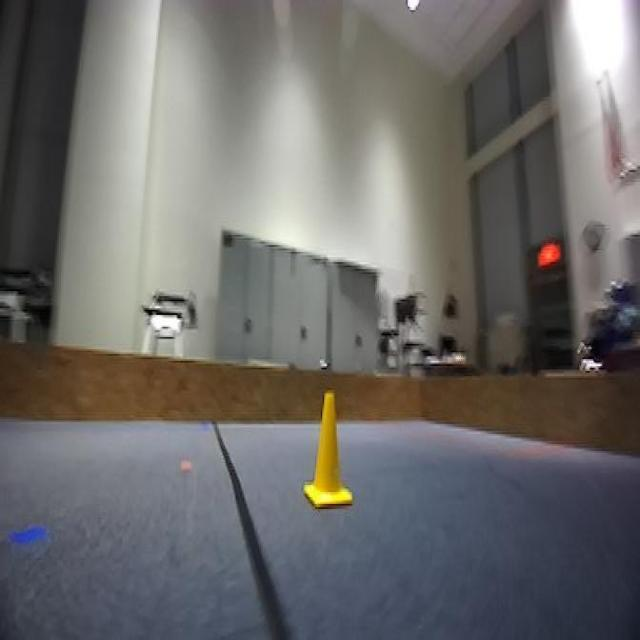frc_cone: (304, 392, 355, 511)
